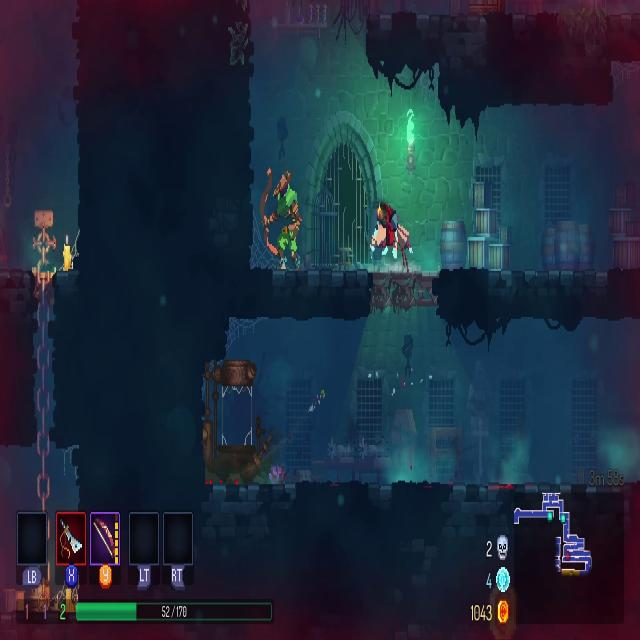agents: (370, 202, 404, 261)
enemy_archer: (263, 170, 304, 271)
wood_floor: (368, 264, 441, 313)
